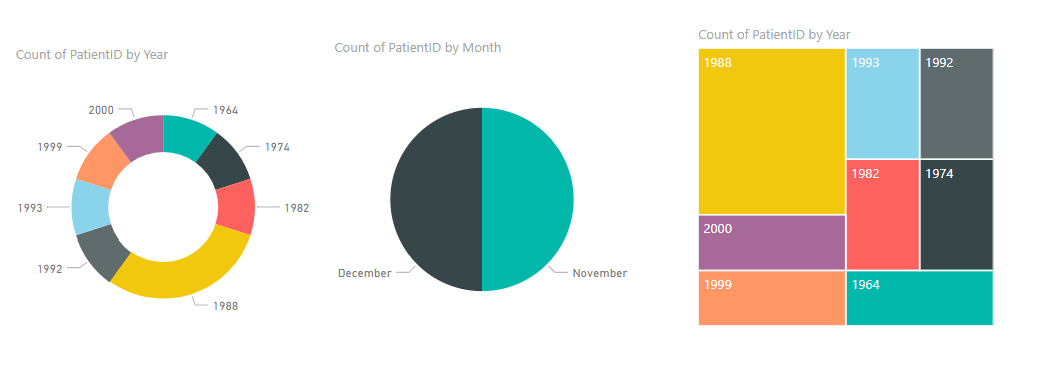

What the dashboard file says about the page in this screenshot:
{"tool":"powerbi","page":{"name":"Page 1","canvas":[1280,720],"ordinal":0},"visuals":[{"type":"donutChart","fields":{"Category":["Patient.Birthdate.Variation.Date Hierarchy.Year","Patient.Birthdate.Variation.Date Hierarchy.Quarter","Patient.Birthdate.Variation.Date Hierarchy.Month","Patient.Birthdate.Variation.Date Hierarchy.Day"],"Y":["CountNonNull(Patient.PatientID)"]},"box":[10,20,280,280],"z":1},{"type":"treemap","fields":{"Group":["Patient.Birthdate.Variation.Date Hierarchy.Year"],"Values":["CountNonNull(Patient.PatientID)"]},"box":[635.3,0.9,280.3,280.3],"z":3},{"type":"pieChart","fields":{"Category":["Patient.Modified_Date.Variation.Date Hierarchy.Month"],"Y":["CountNonNull(Patient.PatientID)"]},"box":[302.4,13,280.3,280.3],"z":3}]}

Visuals, with their boxes on the page's 1280x720 design canvas (x1, y1, x2, y2). These are canvas units, not pixel positions in the 1058x384 screenshot, which may show the page scaled, cropped or inside an application window:
donutChart - Patient.Birthdate.Variation.Date Hierarchy.Year x Patient.Birthdate.Variation.Date Hierarchy.Quarter: bbox=(10, 20, 290, 300)
treemap - Patient.Birthdate.Variation.Date Hierarchy.Year x CountNonNull(Patient.PatientID): bbox=(635, 1, 916, 281)
pieChart - Patient.Modified_Date.Variation.Date Hierarchy.Month x CountNonNull(Patient.PatientID): bbox=(302, 13, 583, 293)
